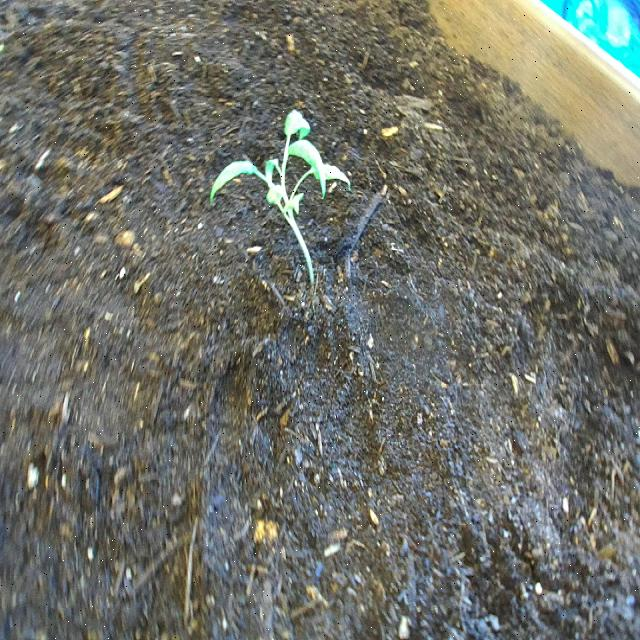Healthy: (201, 97, 365, 305)
